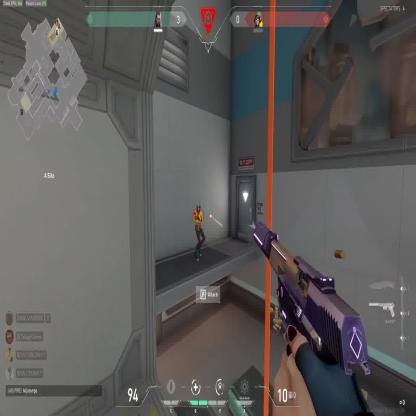enemy: (192, 199, 206, 262)
enemy_head: (196, 200, 201, 213)
